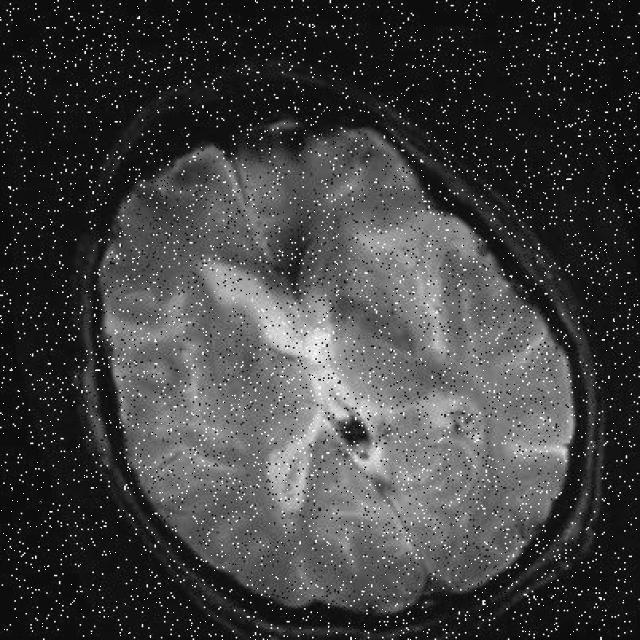LMCI: (218, 184, 355, 314)
